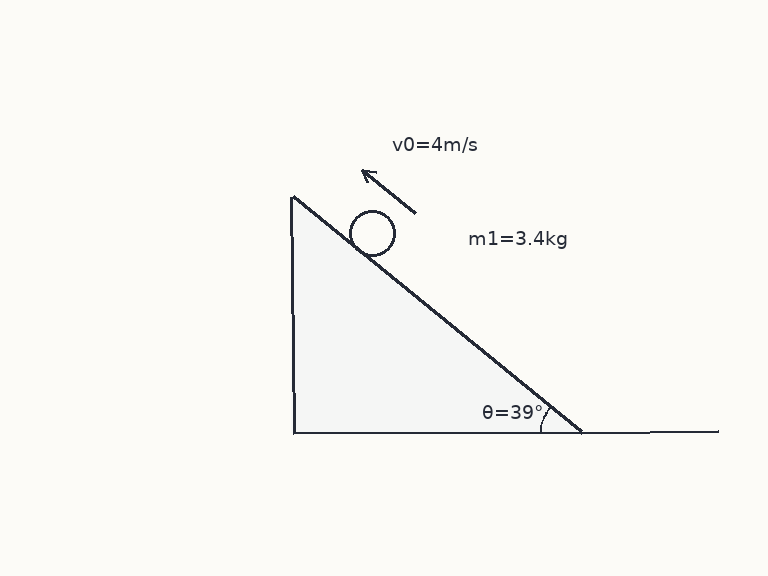ball: (347, 208, 397, 258)
ramp: (290, 196, 583, 434)
